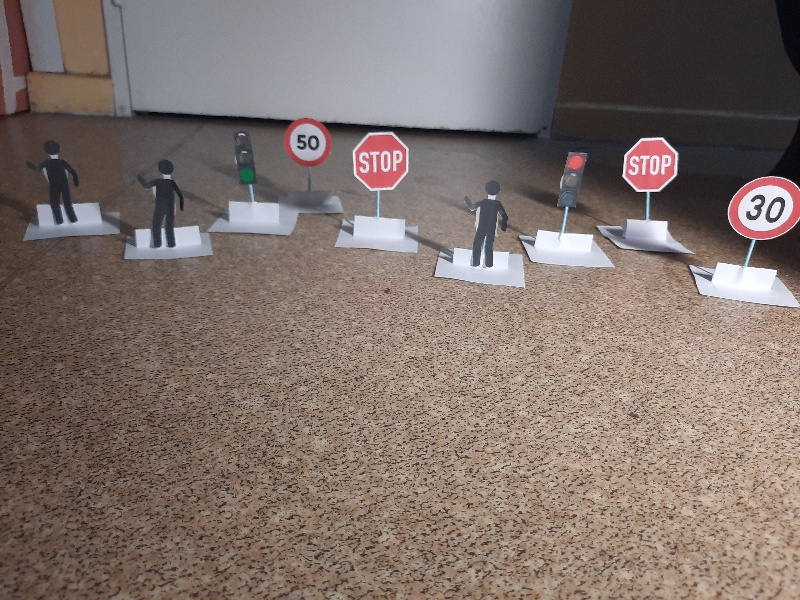Green: (235, 131, 257, 188)
Limit 30: (727, 174, 799, 237)
Limit 50: (285, 119, 329, 167)
Person: (26, 143, 82, 226), (139, 160, 182, 247), (466, 182, 509, 269)
Red: (559, 151, 584, 209)
Stop: (352, 132, 407, 194), (624, 135, 678, 193)
